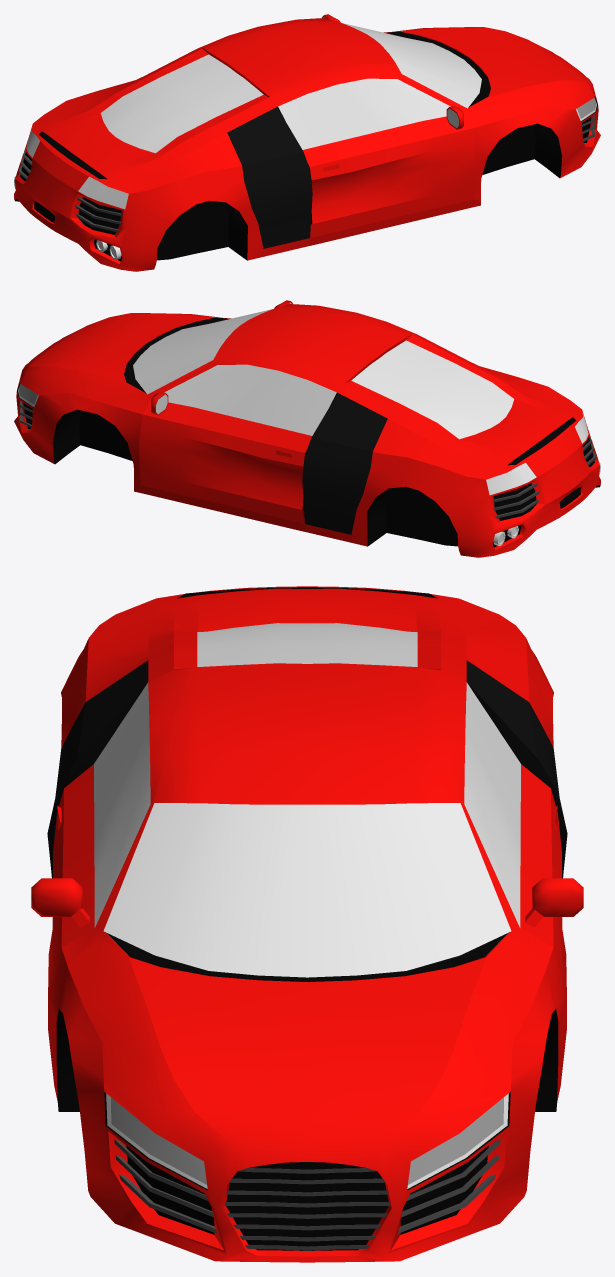
File: A_R7_Body_1.glb
3 views of the same model, one above another, from view 1: azimuth 30°, elevation 25°; view 2: azimuth 150°, elevation 25°; view 3: azimuth 270°, elevation 25° (orthographic). The views are drawn at different scales.
Visible parts, largest first — view 1: Cube; view 2: Cube; view 3: Cube.
Boxes of the visible parts, left/top/right/bottom form: Cube: left=14, top=14, right=600, bottom=271; Cube: left=14, top=300, right=600, bottom=557; Cube: left=31, top=586, right=583, bottom=1262.
Size of the model in its own units: 3.39 by 0.8559 by 1.51.
